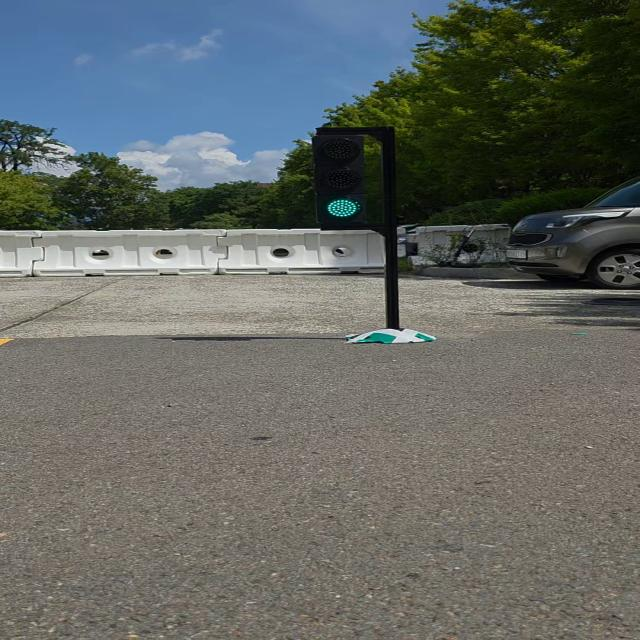green: (314, 130, 372, 229)
